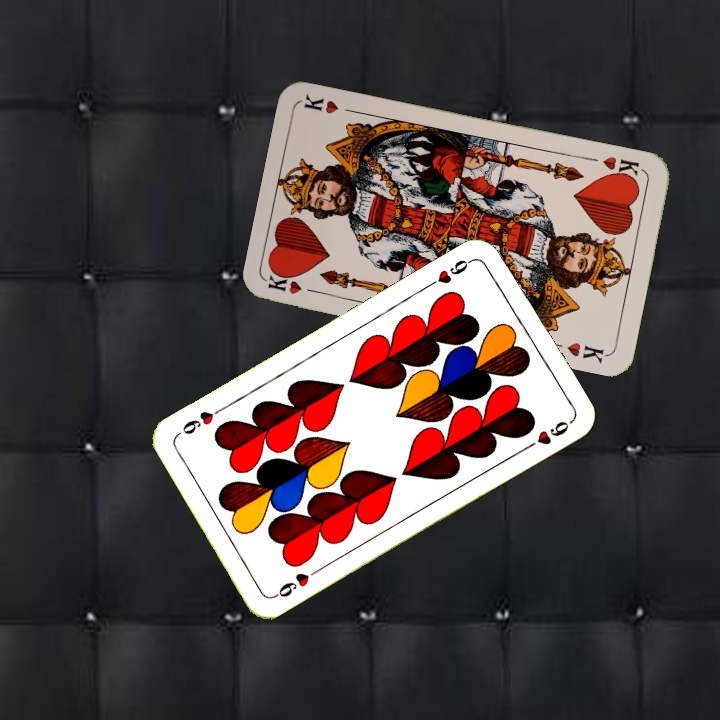H9: (270, 564, 323, 601), (423, 254, 477, 290)
HK: (265, 272, 324, 297), (599, 152, 645, 184)
